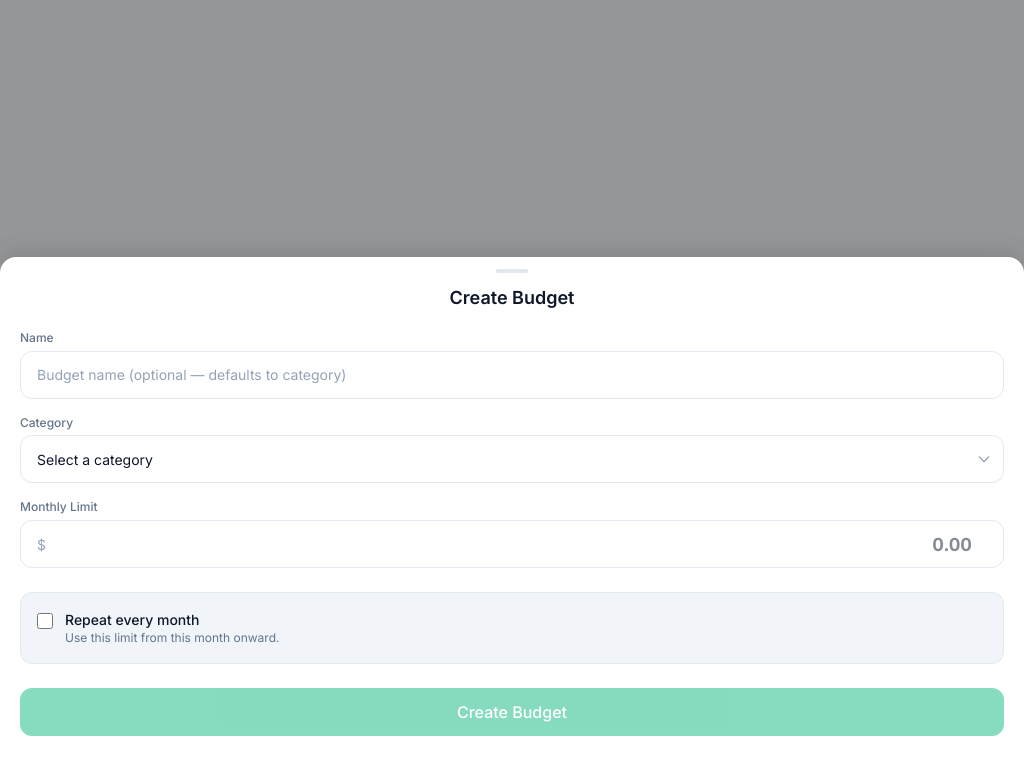
Test: CreateBudgetSheet › shows amount validation error when blurring with 0 amount
Type "0" into the number field with test id "amount-input" at (526, 544), box [50,521,1003,567]
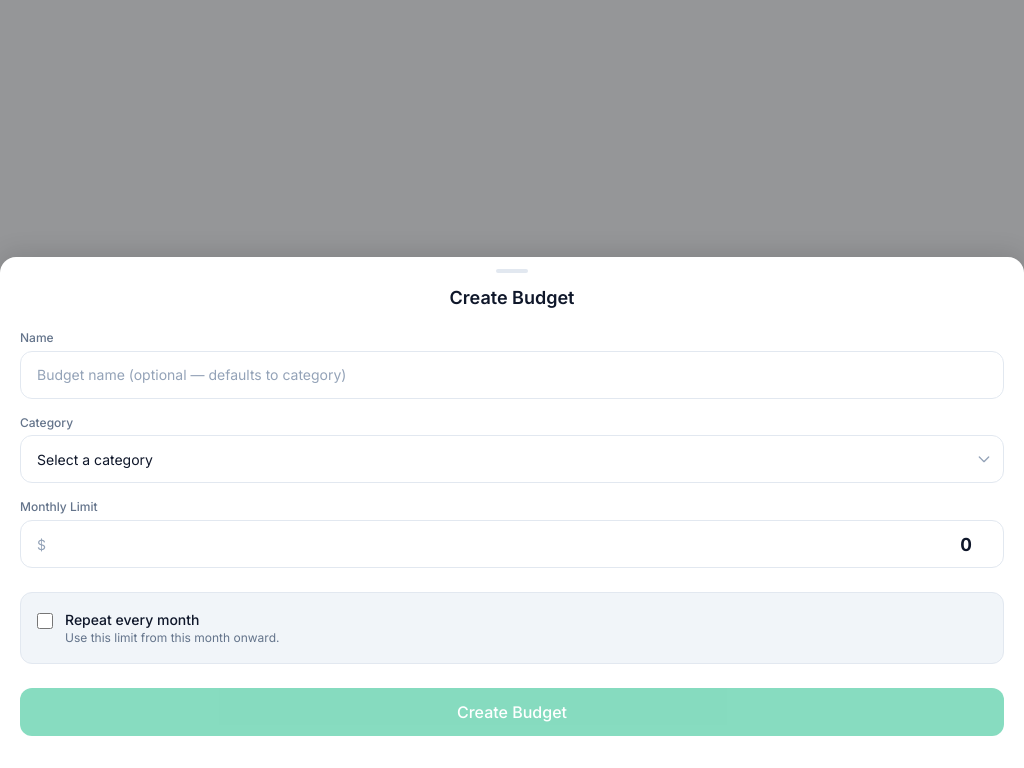
Leave the number field with test id "amount-input", box [50,521,1003,567]
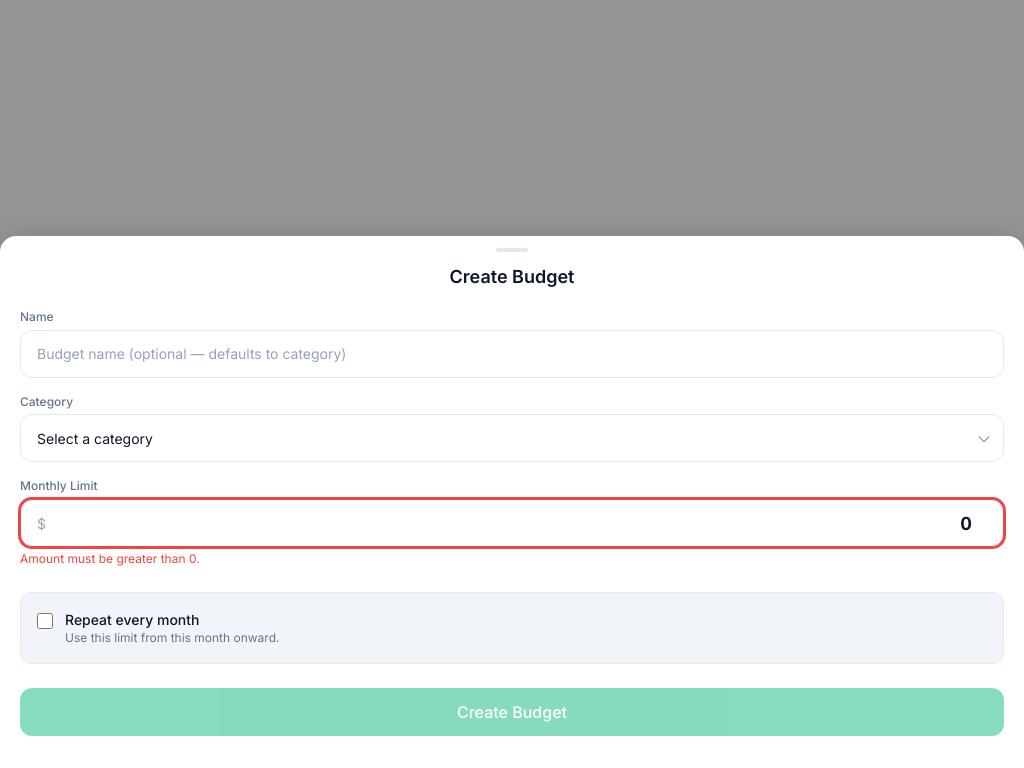
Expected: the text "Amount must be greater than 0" is shown, [20,551,200,566]
